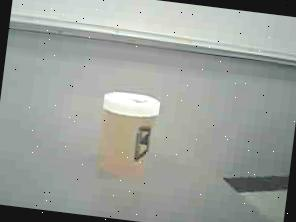Bottle B: (86, 82, 168, 184)
